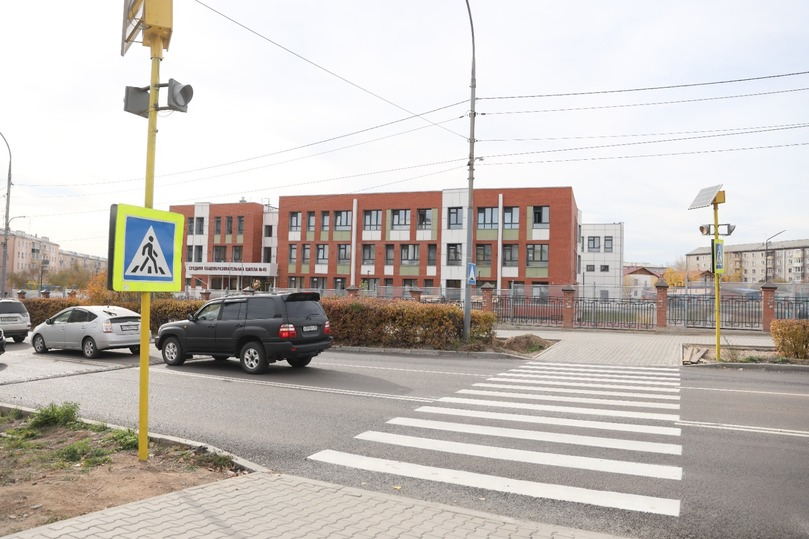sign: (104, 199, 188, 295), (709, 237, 728, 274), (464, 261, 480, 286)
